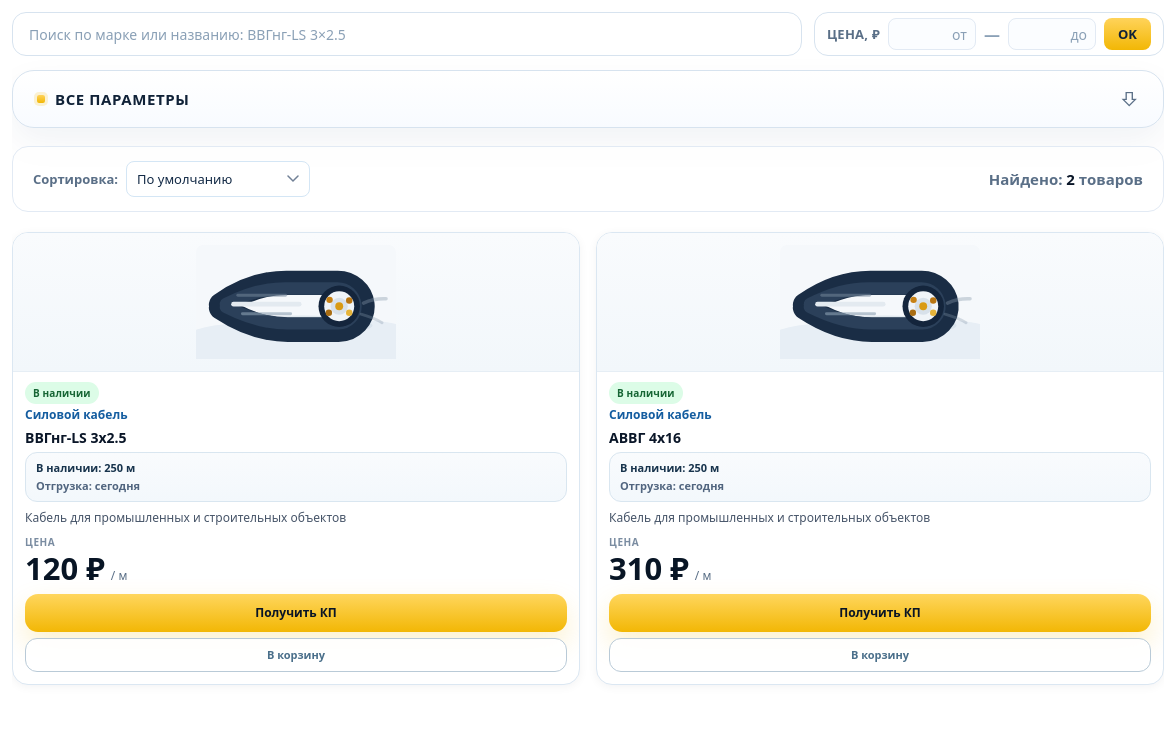
Test: ProductListingView render flow › коммитит поиск в URL по Enter
Type "АВВГ" into the search field named "Поиск по каталогу" at [407, 34], box [12, 12, 802, 56]
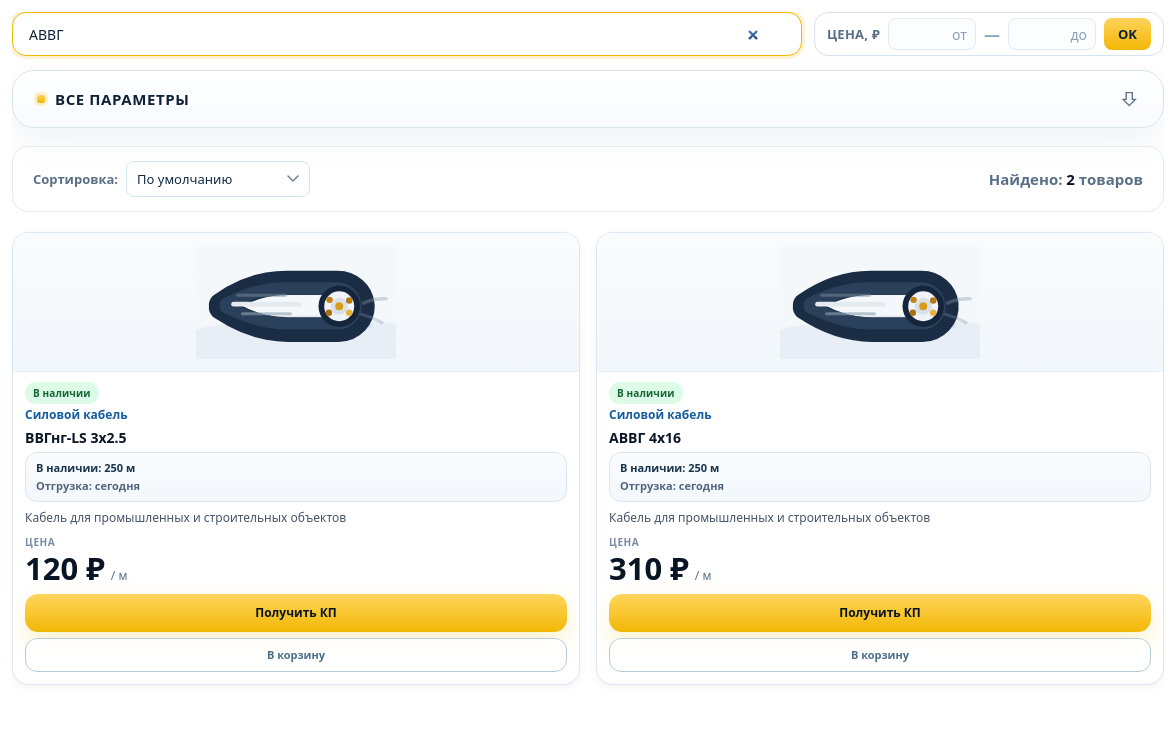
Press Enter
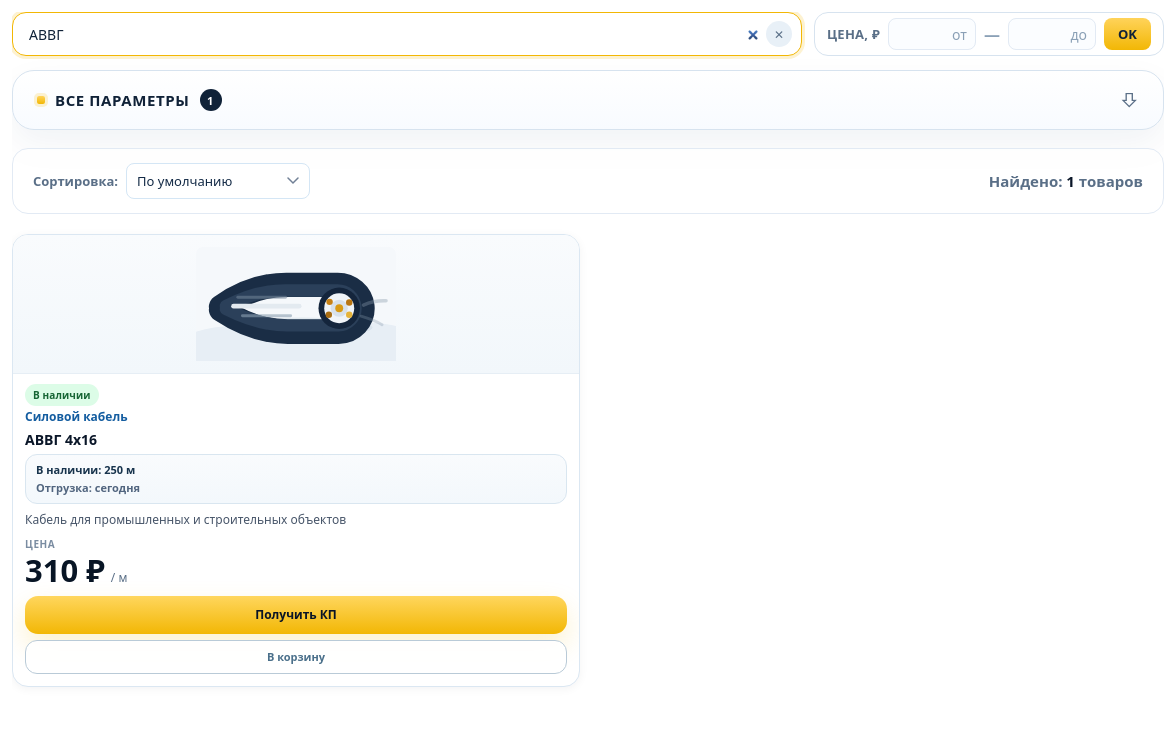
Check: the link "АВВГ 4x16" is shown, box [25, 432, 97, 449]
Check: the link "ВВГнг-LS 3x2.5" is gone
